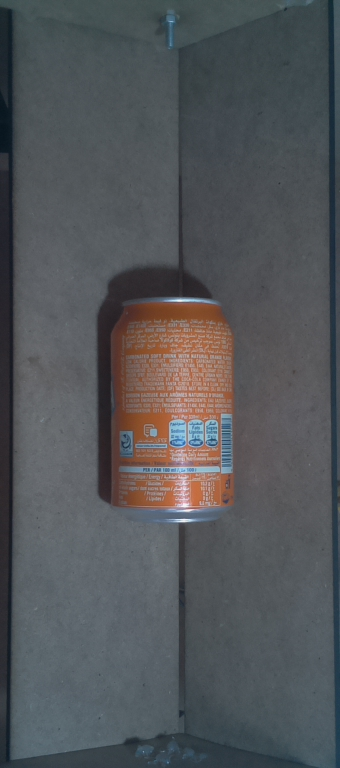Canette: (98, 290, 250, 537)
